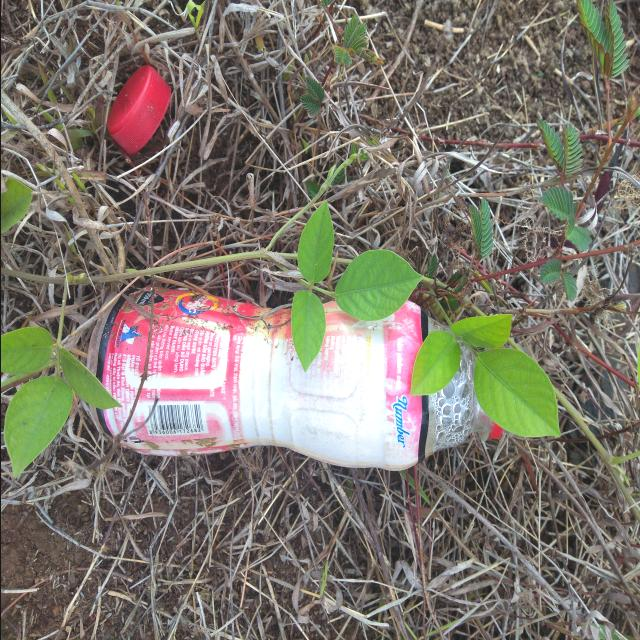Clear plastic bottle: (86, 287, 512, 470)
Plastic bottle cap: (106, 65, 170, 155)
